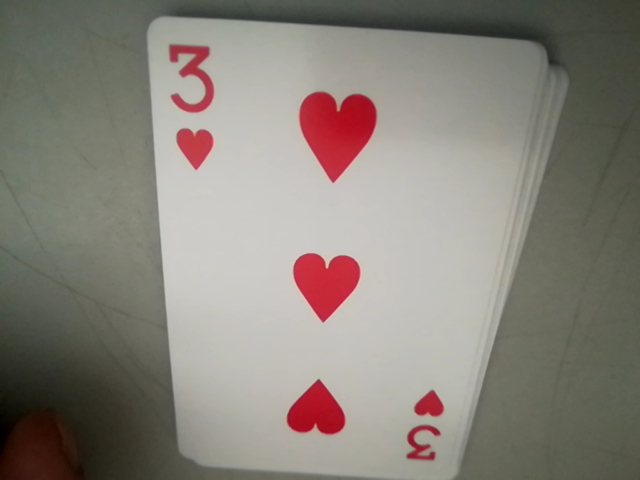hx 3: (163, 40, 221, 171), (403, 386, 449, 462)
